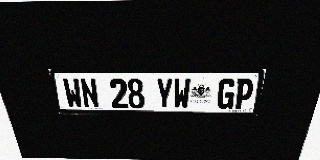2: (109, 78, 128, 109)
8: (127, 78, 145, 109)
G: (216, 78, 237, 109)
N: (79, 78, 100, 108)
P: (233, 78, 255, 109)
W: (62, 78, 84, 108), (173, 78, 191, 109)
Y: (156, 78, 173, 109)
